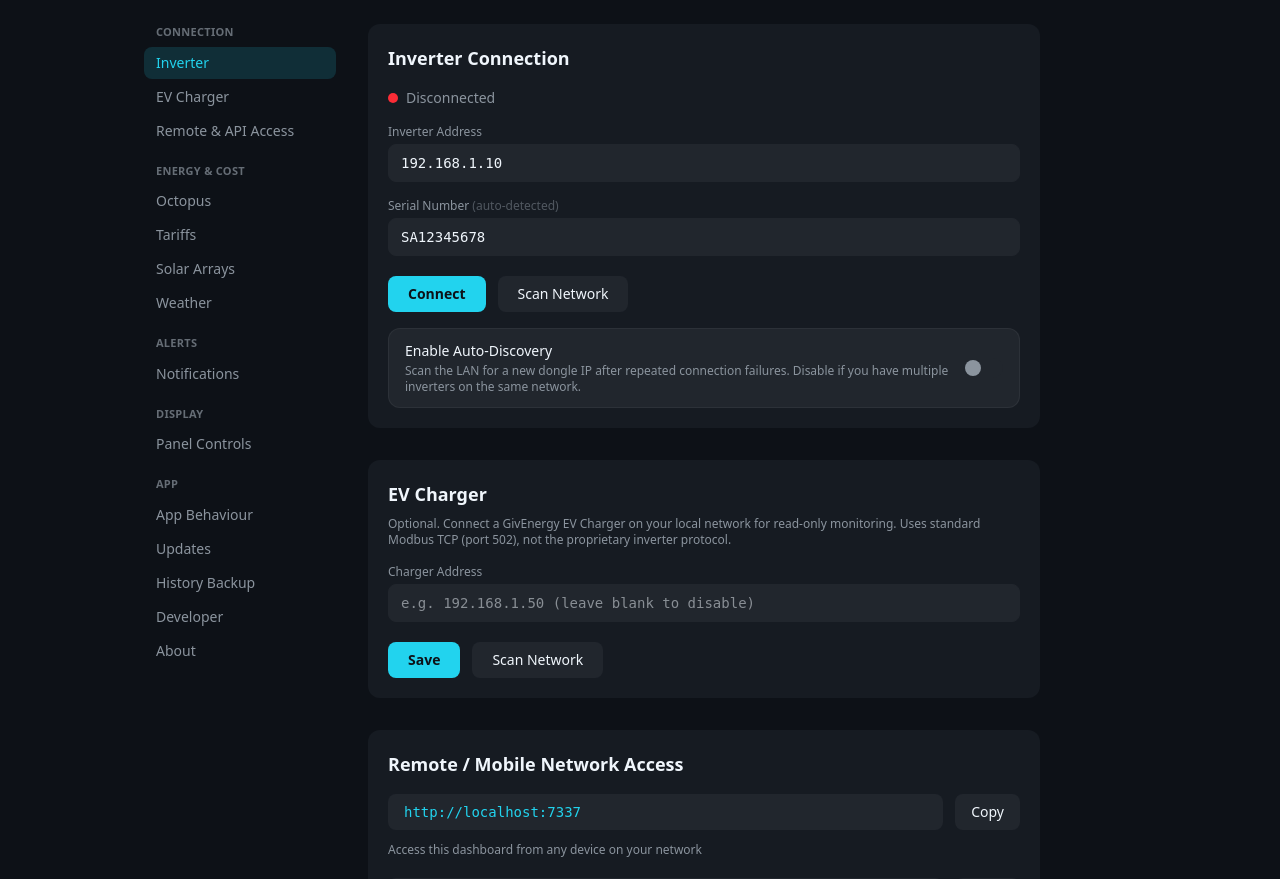
Test: <SettingsPage/> — saving the inverter connection › reports a failed save and remembers nothing
Expected: the field with placeholder "e.g. 192.168.1.50" holds "192.168.1.10", [388,144,1020,182]
Click the button "Connect" at (437, 294), box [388,276,486,312]
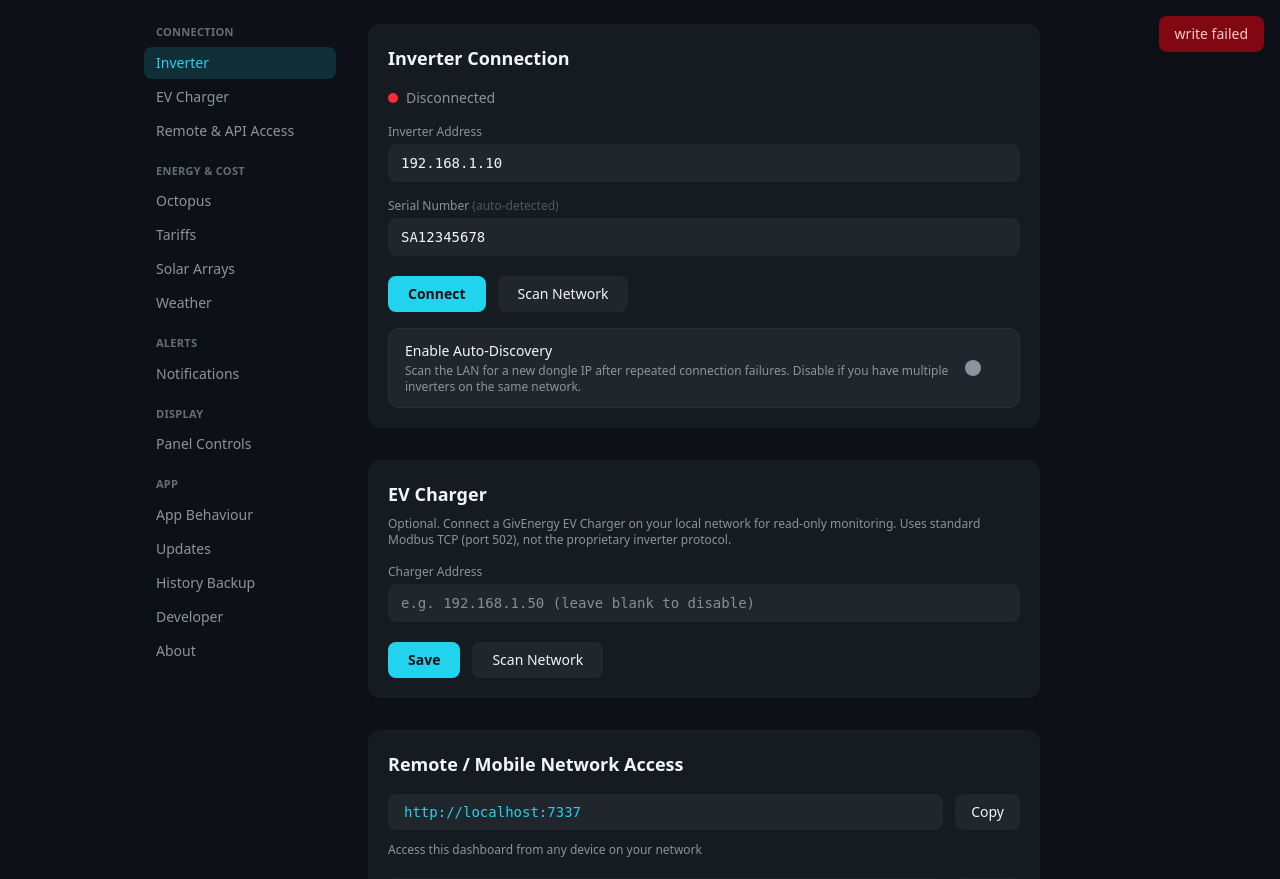
Result: the text "write failed" is shown at [1159,16,1264,52]
